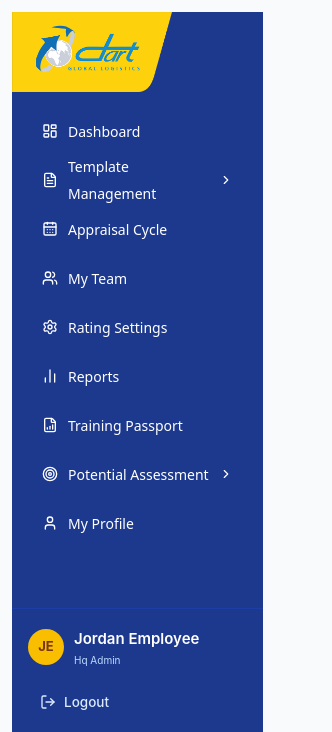
Test: Sidebar › renders HQ admin nav items, including nested Template Management children only after expanding
Check: the text "Dashboard" is shown, box left=68, top=118, right=140, bottom=144
Check: the text "Rating Settings" is shown, box left=68, top=314, right=167, bottom=340
Click the button "Template Management": x=138, y=180 left=28, top=157, right=247, bottom=203
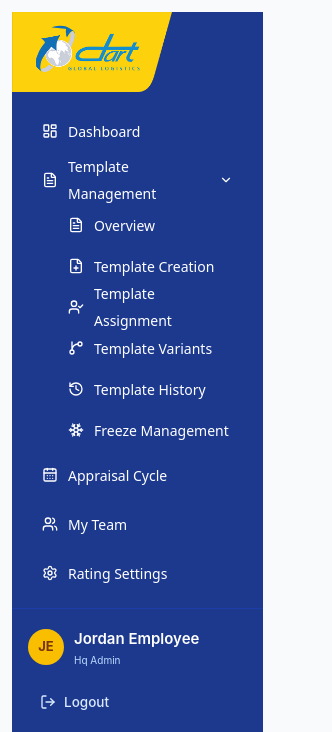
Check: the text "Template Creation" is shown, box left=94, top=252, right=214, bottom=280
